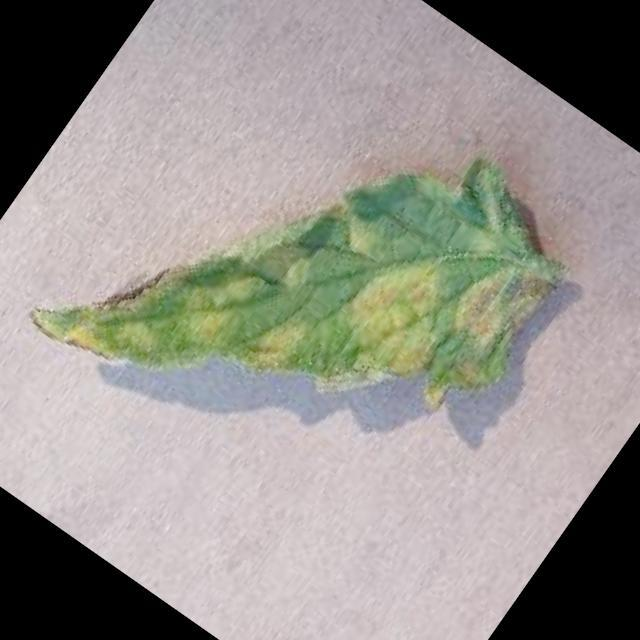Tomato mold leaf: (25, 0, 591, 559)
